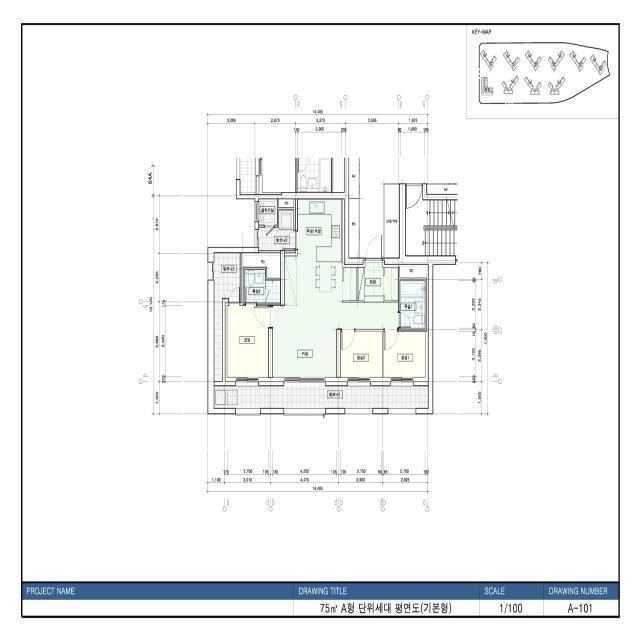background: (21, 24, 620, 618)
space_balconi: (214, 383, 428, 408), (214, 253, 240, 381), (259, 210, 296, 250)
space_bedroom: (227, 305, 268, 377), (341, 331, 382, 377), (384, 332, 425, 377)
space_front: (358, 260, 398, 302)
space_kitchen: (285, 199, 357, 305)
space_living_room: (273, 305, 341, 377)
space_other: (341, 302, 398, 329), (384, 184, 399, 258), (242, 253, 281, 278), (349, 199, 359, 258), (399, 265, 428, 278), (279, 199, 294, 208)
space_outdoor_room: (259, 199, 277, 225)
space_staircase: (406, 184, 457, 255)
space_toilet: (400, 281, 425, 328), (245, 270, 280, 302)
